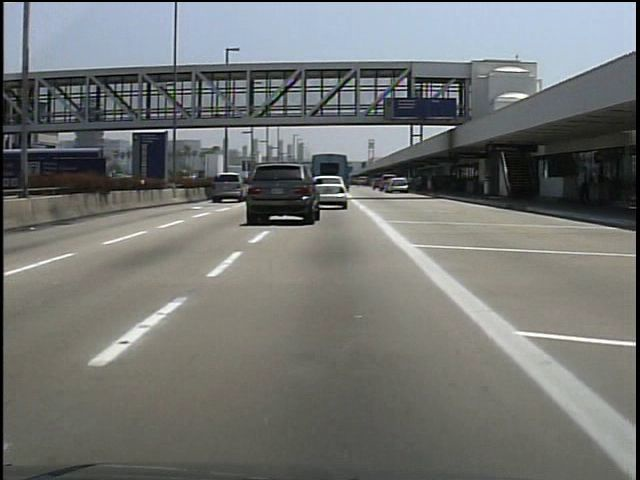person: (571, 165, 592, 210)
